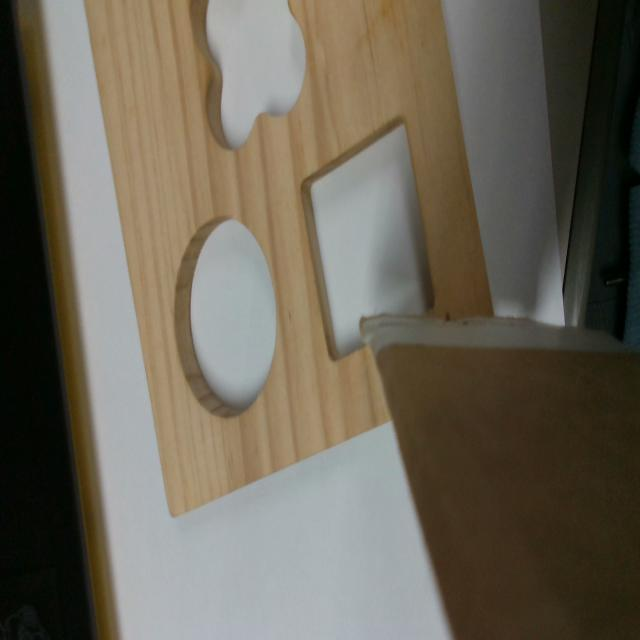circle: (174, 216, 279, 421)
flower: (188, 0, 306, 155)
square: (299, 116, 436, 361)
